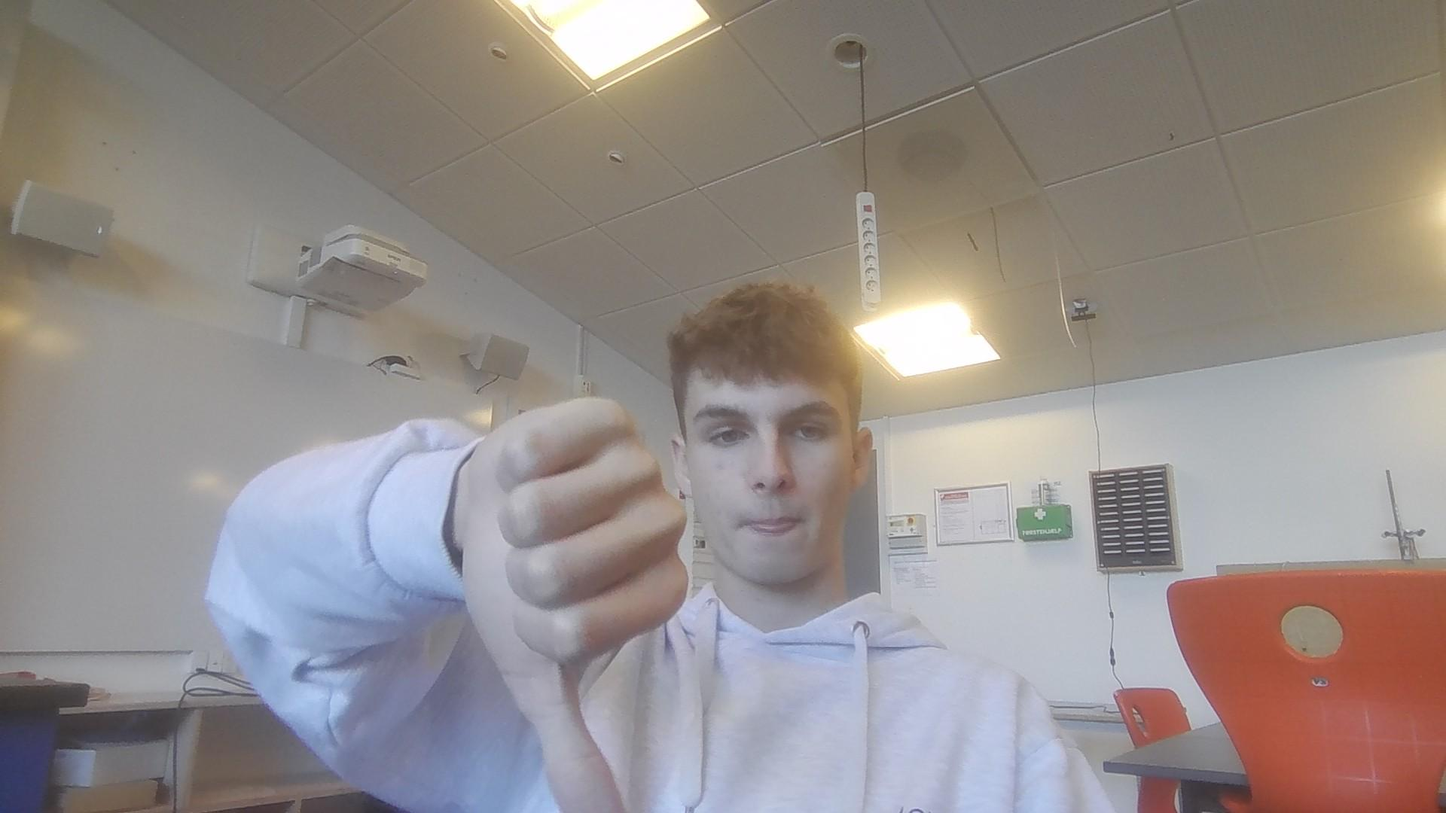thumbs down: (441, 390, 693, 813)
